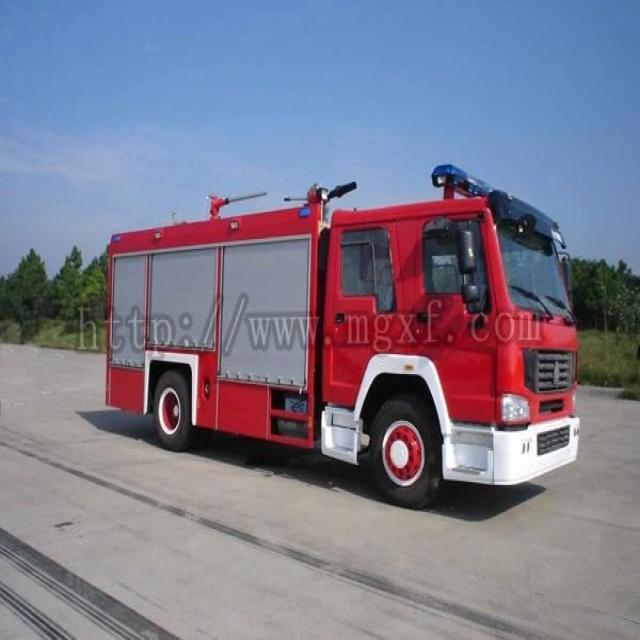Fire-truck: (104, 162, 580, 508)
